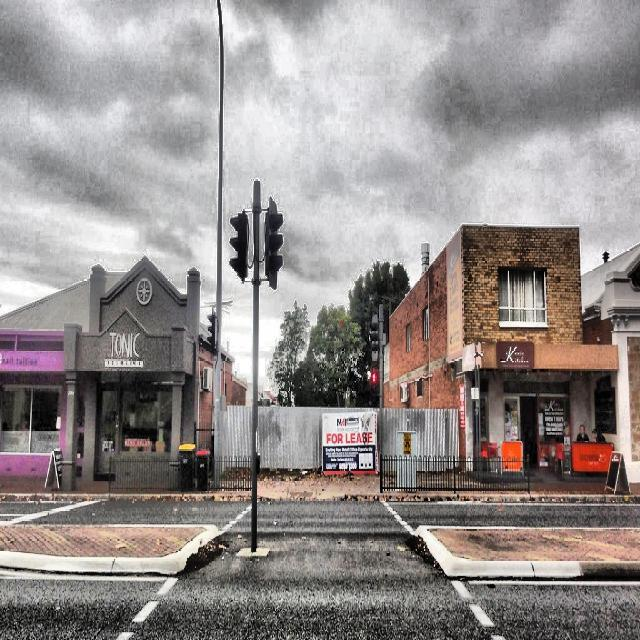red_light: (372, 372, 376, 383)
